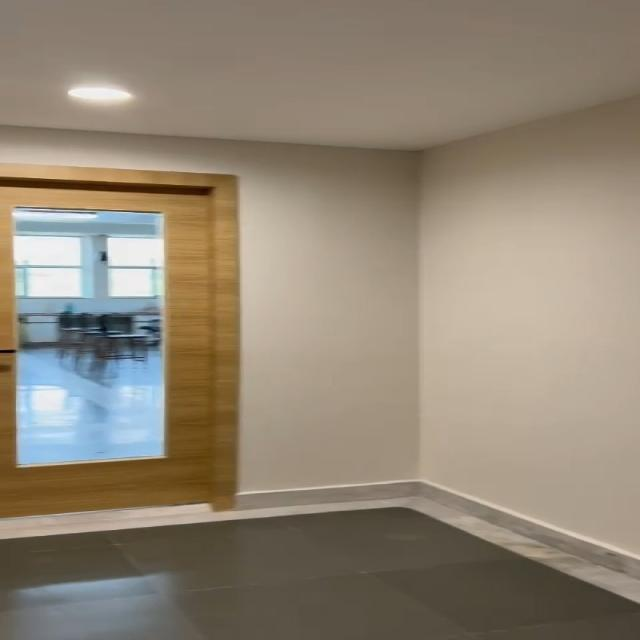door: (0, 162, 238, 514)
floor: (3, 533, 640, 640)
wall: (435, 107, 640, 512), (251, 130, 428, 473)
